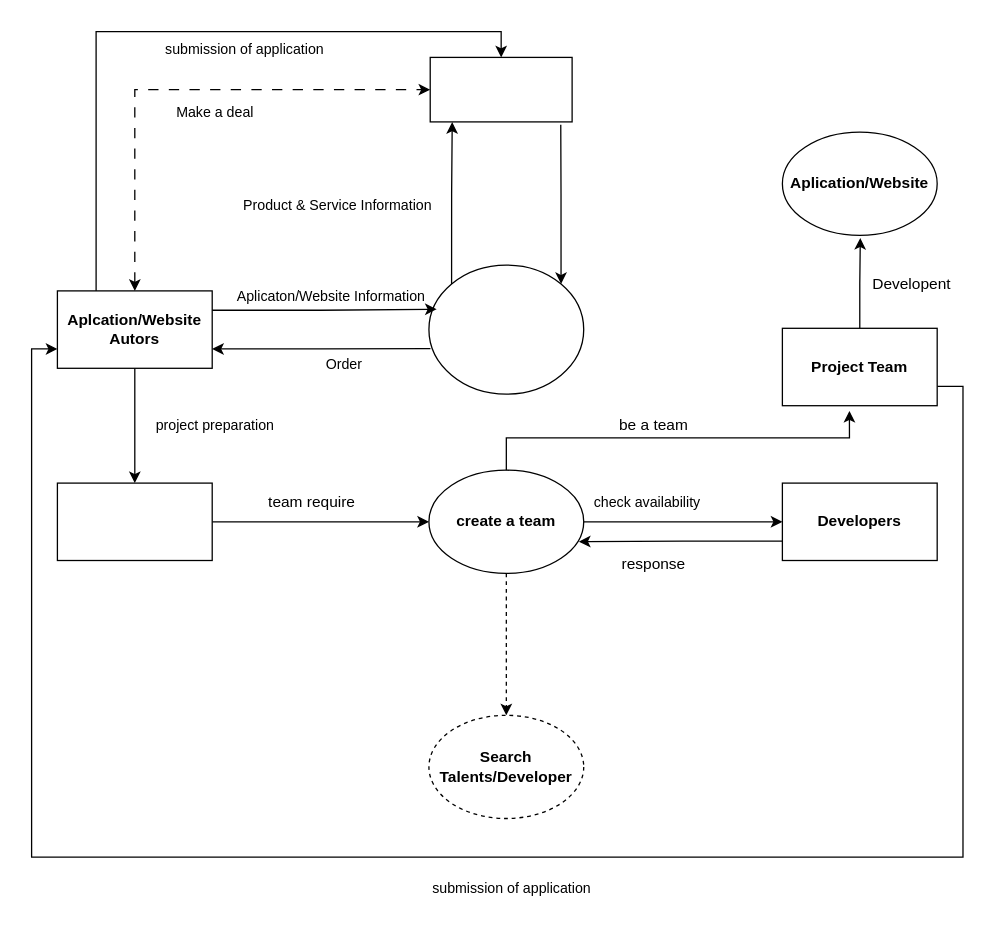
This 996x944 diagram has some shape labels left out. The shapes that lost their labels are listed below. From the top down, each one's centre as x and y in pixels, then its label:
(x=500, y=89): Client
(x=506, y=329): Klinik-Digital Website
(x=134, y=521): Project Managers
